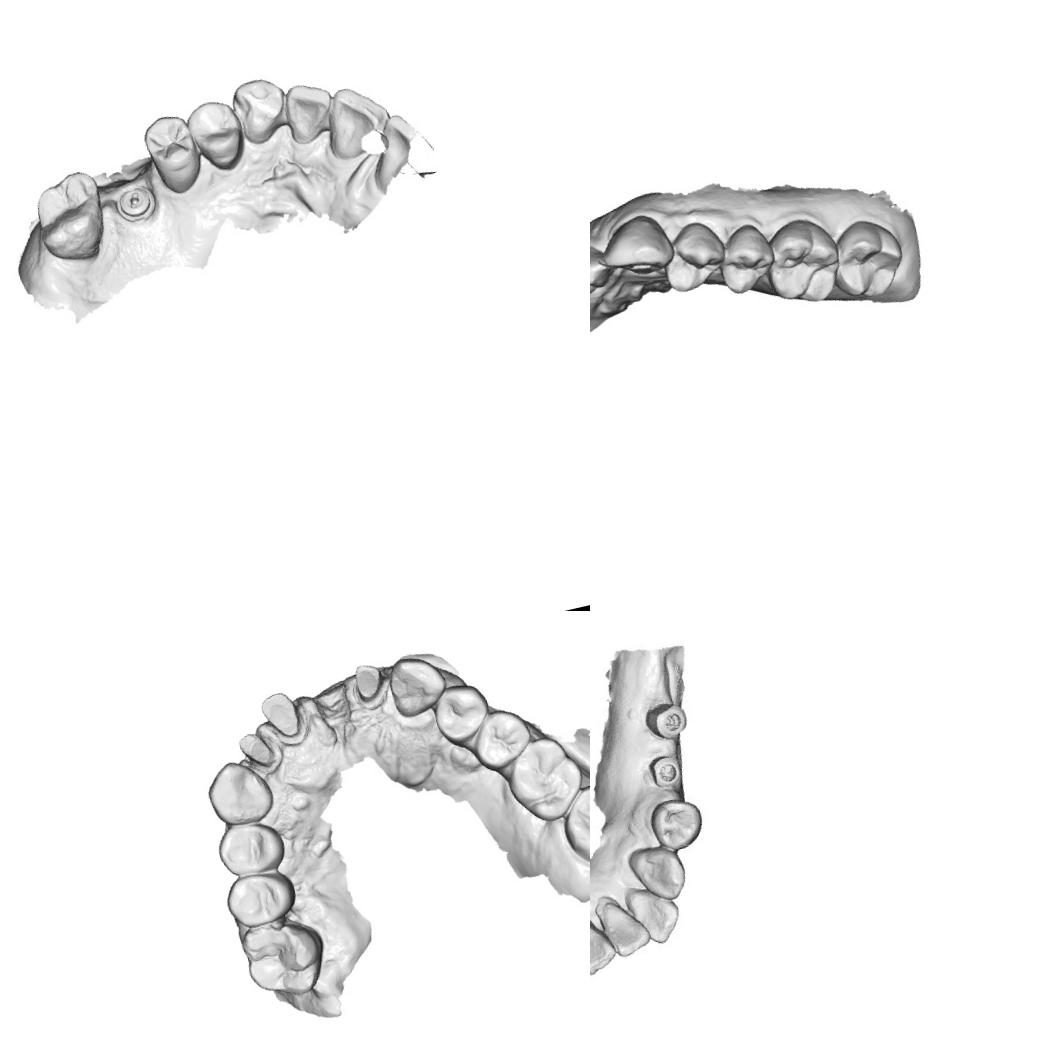canine: (199, 752, 279, 833), (380, 648, 454, 724), (224, 72, 296, 150), (602, 210, 676, 280), (623, 837, 692, 909)
crown: (256, 686, 310, 748), (232, 725, 282, 778), (345, 658, 392, 712)
implant: (638, 694, 695, 751), (644, 750, 692, 796)
implant_minus: (113, 181, 156, 224)
incisor: (314, 78, 398, 166), (276, 76, 344, 150), (625, 881, 686, 950), (596, 894, 653, 965), (590, 911, 622, 979), (590, 248, 612, 300)
molar: (235, 910, 335, 1007), (497, 727, 590, 831), (756, 212, 850, 313), (27, 166, 114, 267), (823, 212, 911, 308), (553, 776, 590, 874)
premolar: (137, 106, 210, 200), (655, 215, 734, 299), (181, 92, 251, 178), (210, 813, 292, 884), (219, 865, 303, 934), (708, 216, 779, 297), (464, 701, 540, 776), (426, 678, 497, 750), (643, 790, 711, 857)
